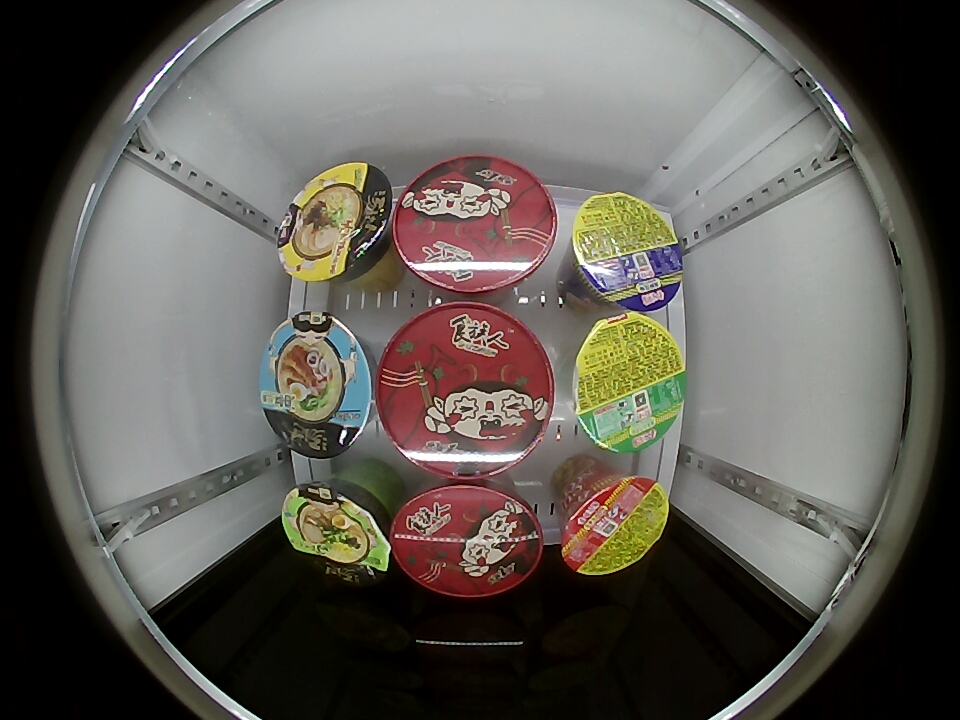heweidao: (570, 192, 684, 311)
heweidao2: (572, 312, 686, 454)
heweidao3: (559, 472, 670, 576)
suanlafen: (375, 302, 556, 479), (392, 156, 559, 300), (390, 481, 545, 598)
tangdaren: (280, 478, 395, 585)
tangdaren2: (277, 162, 395, 284)
tangdaren3: (260, 312, 374, 459)
